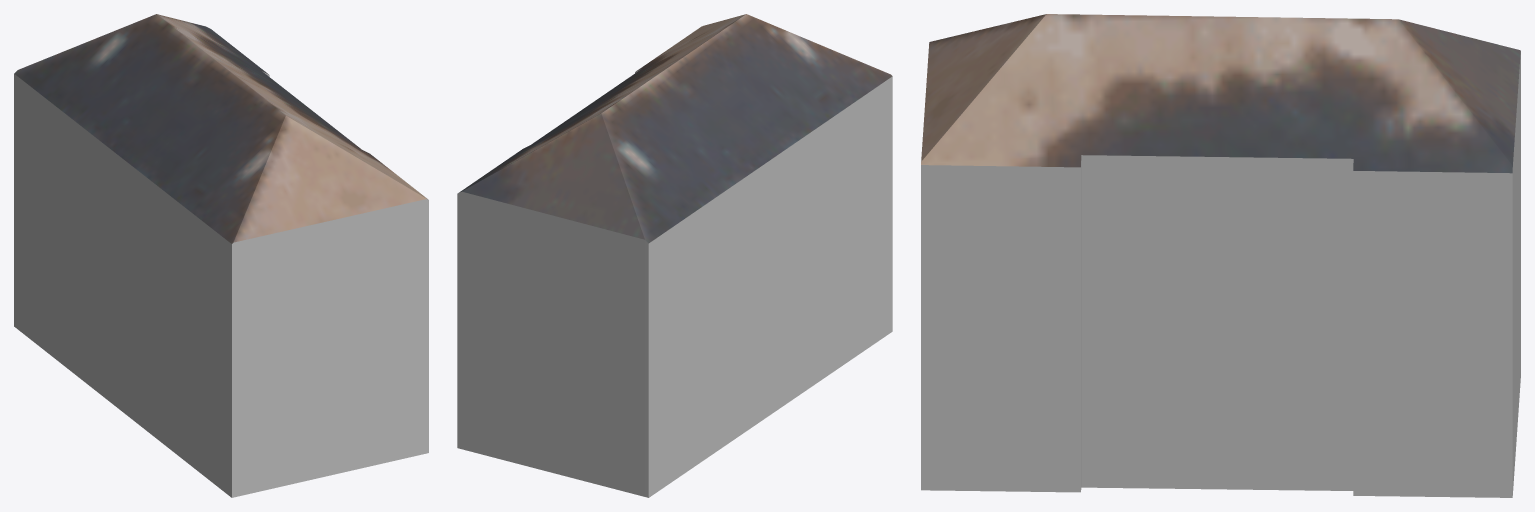
File: DEBW_0010007Tx6m.gltf
3 renders of one model, left to right at view 1: azimuth 30°, elevation 25°; view 2: azimuth 150°, elevation 25°; view 3: azimuth 270°, elevation 25°, orthographic. The views are drawn at different scales.
Visible parts, largest first — view 1: Z_UP; view 2: Z_UP; view 3: Z_UP.
Part boxes in pixels (x1,y1,x2,y2): Z_UP: (14,14,428,497); Z_UP: (457,14,892,497); Z_UP: (921,14,1520,497).
Size of the model in its own units: 10.34 by 15.57 by 20.29.
Materials: 2 (1 with a texture image).
